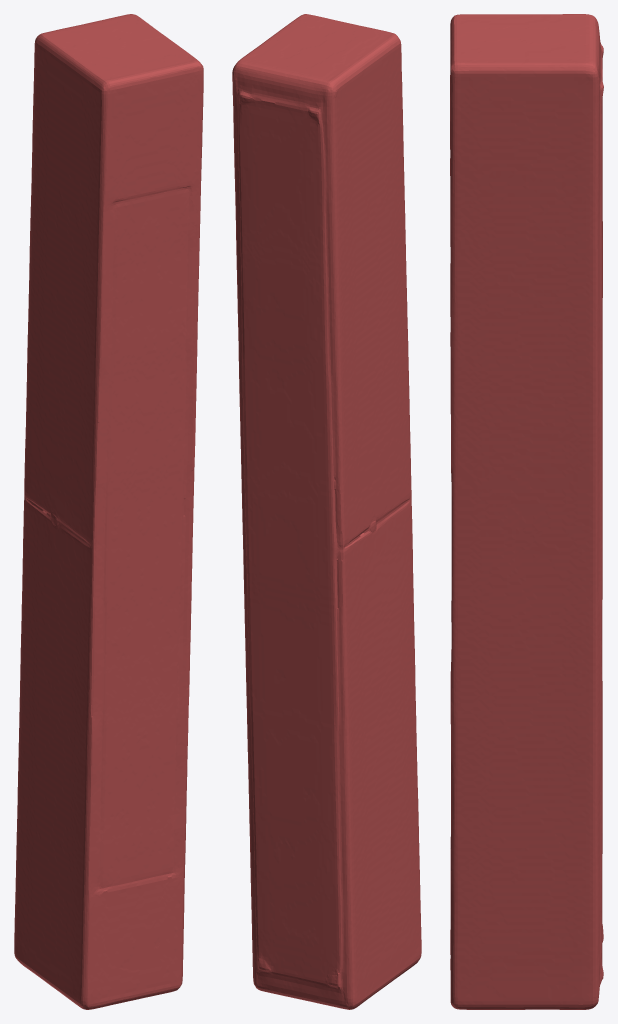
File: hulls.glb
The picture shows the model from 3 angles, left to right: view 1: azimuth 30°, elevation 25°; view 2: azimuth 150°, elevation 25°; view 3: azimuth 270°, elevation 25°; orthographic projection. The views are drawn at different scales.
Bounding box in the file's own units: 0.1861 × 1.34 × 0.1944.
